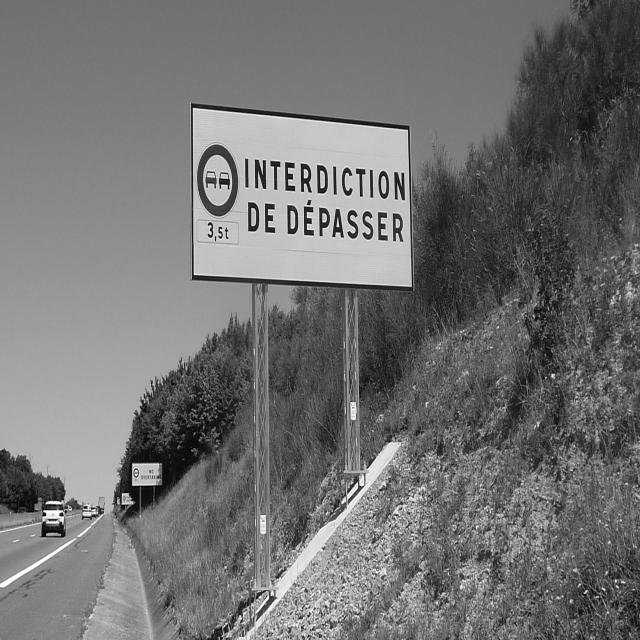forbidden: (194, 141, 239, 218)
